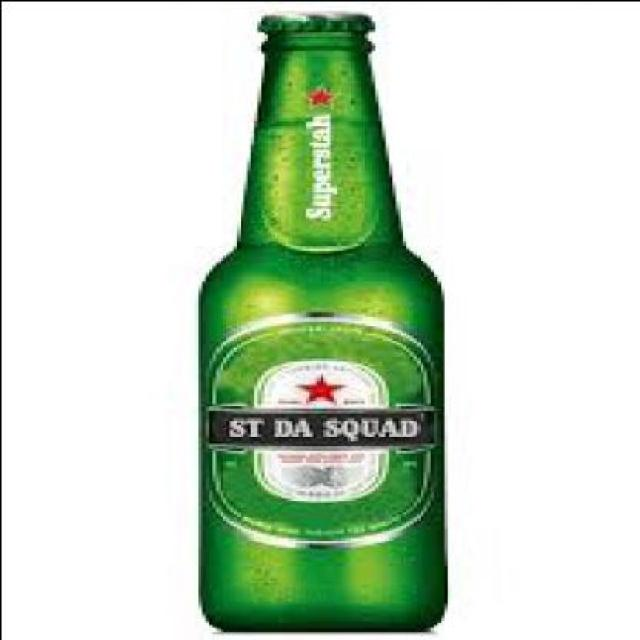GLASS: (190, 24, 447, 630)
METAL: (256, 9, 367, 28)
